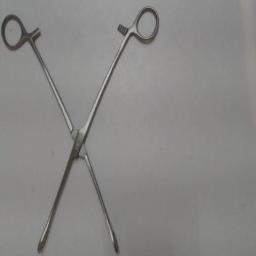Sponge Forceps: (2, 1, 162, 253)
